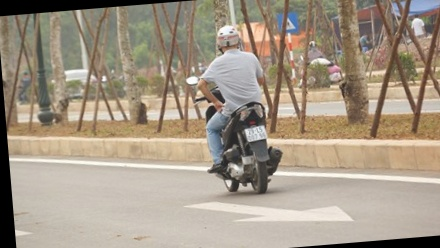Bien-so: (245, 125, 269, 143)
